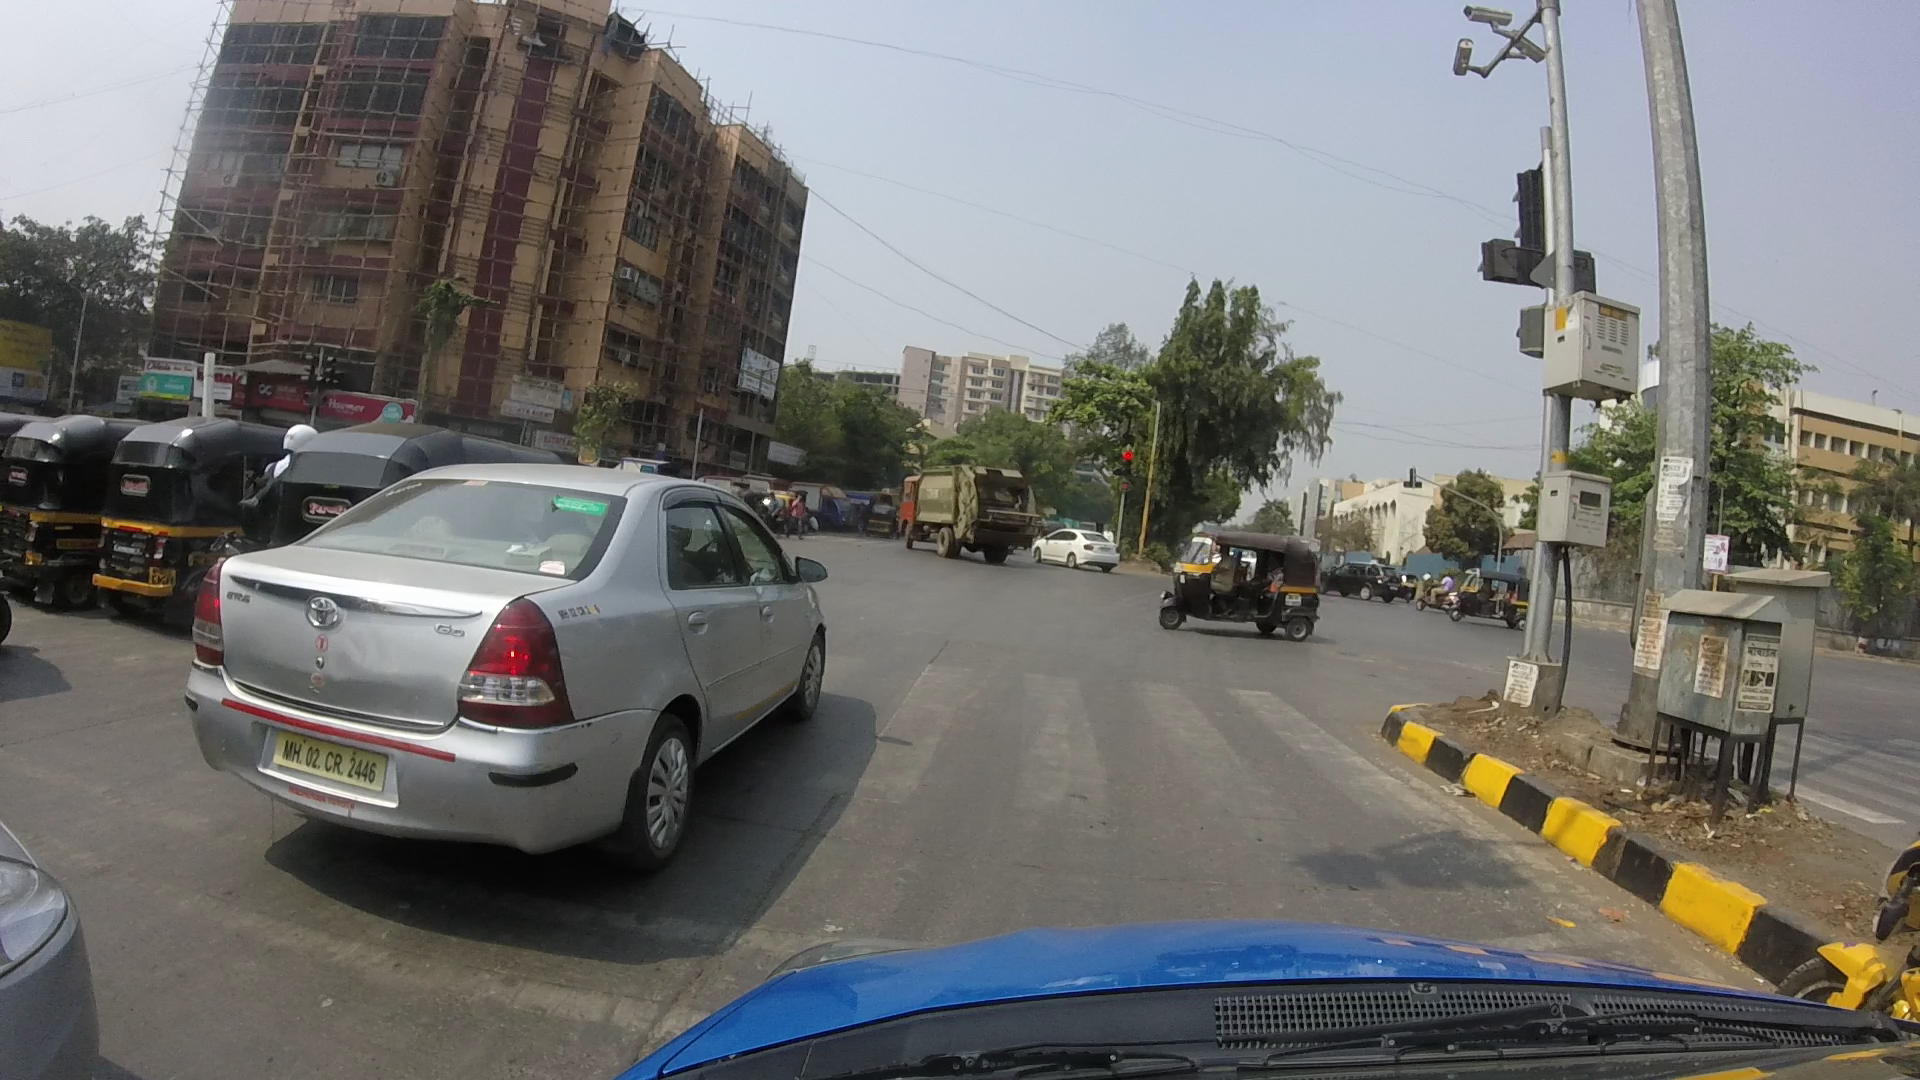car: (199, 465, 837, 861), (1, 811, 102, 1047), (1035, 516, 1116, 578)
rickshaw: (268, 422, 555, 542), (109, 413, 280, 608), (1151, 514, 1333, 659), (4, 398, 131, 591), (1441, 566, 1534, 640)
truck: (894, 455, 1040, 558)
